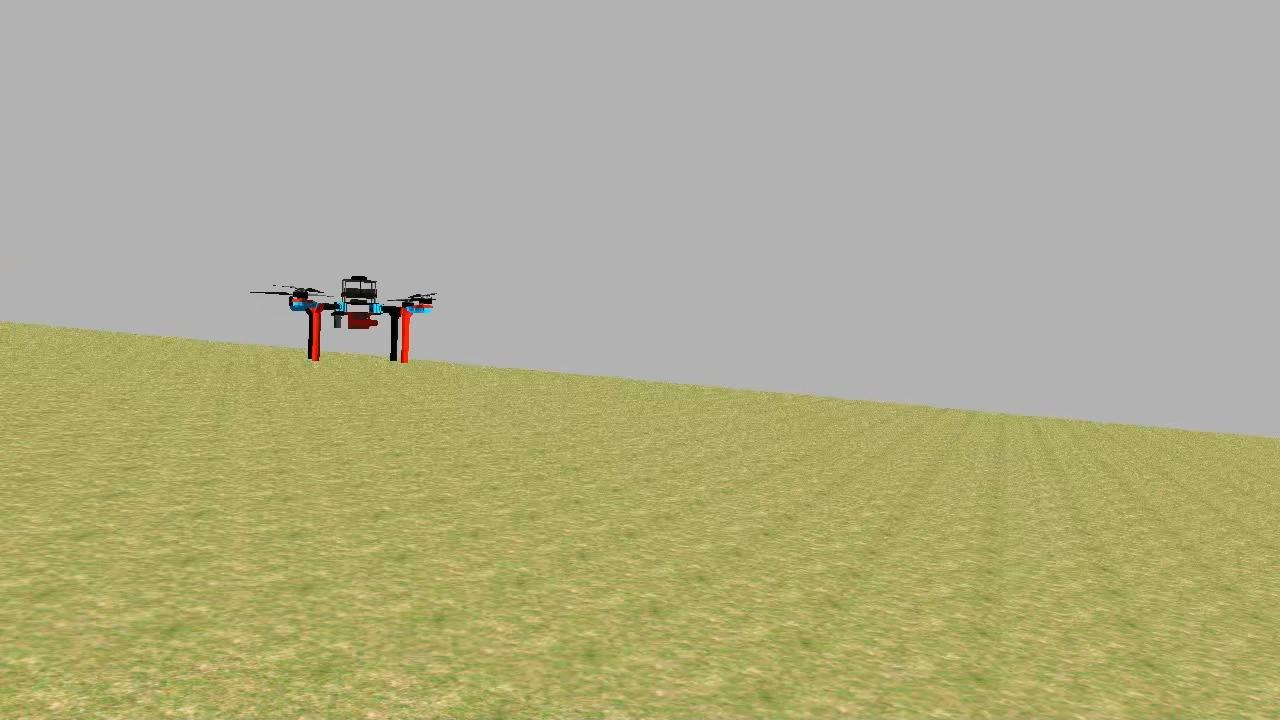UAV: (284, 268, 440, 374)
